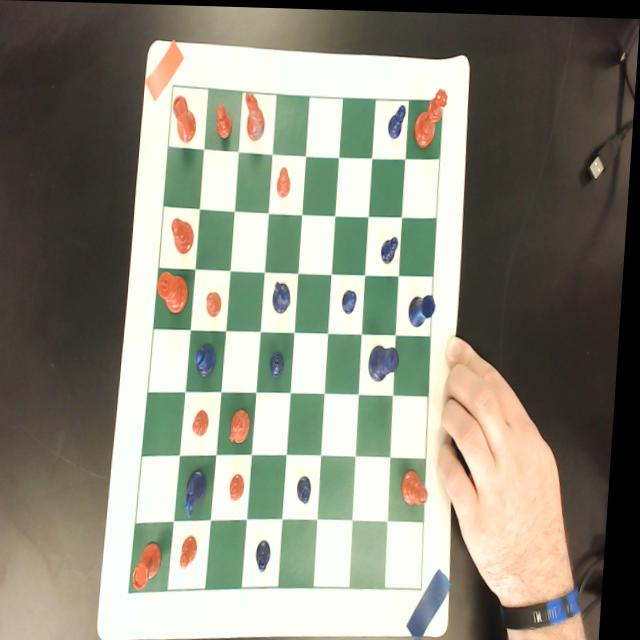B: (198, 342, 222, 377)
K: (373, 342, 405, 381)
N: (190, 466, 214, 519), (276, 279, 296, 314)
P: (389, 101, 409, 136), (262, 537, 280, 572), (384, 233, 402, 262), (303, 472, 318, 502), (345, 286, 362, 312), (274, 349, 291, 375)
R: (411, 290, 441, 326)
b: (407, 467, 437, 505), (172, 215, 198, 254)
k: (159, 269, 194, 313)
n: (244, 90, 269, 142), (234, 405, 257, 446)
p: (216, 100, 236, 139), (186, 533, 206, 569), (278, 163, 294, 198), (235, 471, 253, 501), (197, 407, 215, 435), (210, 288, 226, 317)
q: (414, 86, 450, 147)
r: (139, 536, 174, 595), (172, 92, 201, 142)
